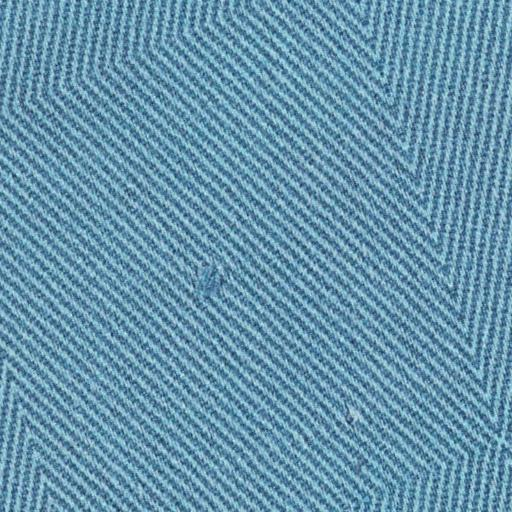knot: (177, 254, 234, 300)
